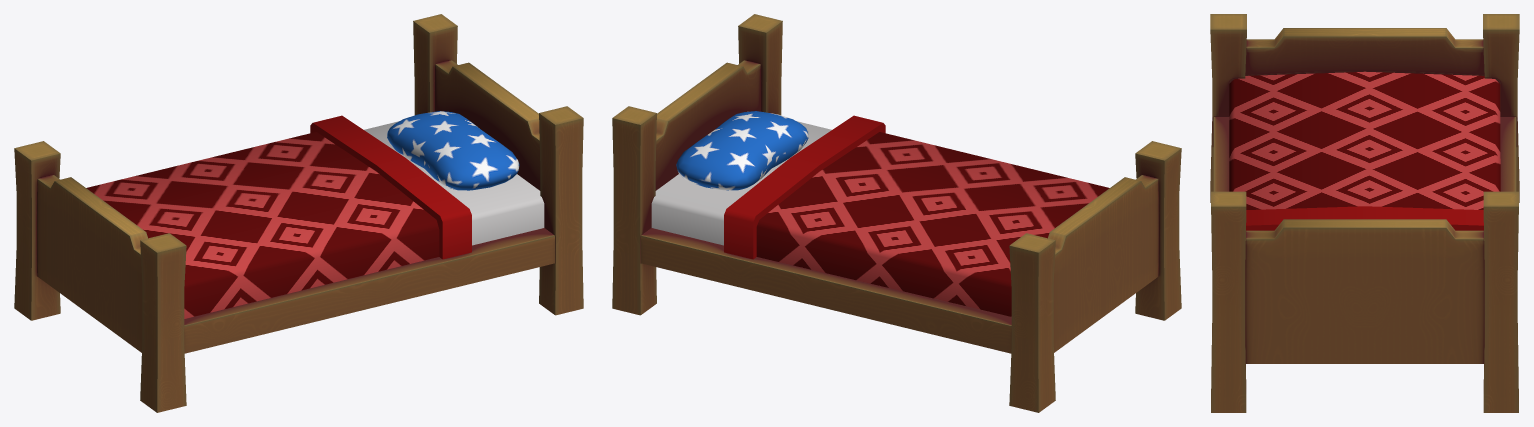
Rendered from child_bed_option_1.glb.
3 renders of one model, left to right at view 1: azimuth 30°, elevation 25°; view 2: azimuth 150°, elevation 25°; view 3: azimuth 270°, elevation 25°, orthographic. The views are drawn at different scales.
Visible parts, largest first — view 1: bed1_low, wood1_low, wood3_low, wood2_low, pillow_low, bed_low; view 2: bed1_low, wood1_low, wood3_low, wood2_low, pillow_low, bed_low; view 3: wood3_low, bed1_low, wood1_low, wood2_low.
Part boxes in pixels (<box>): bed1_low: <box>86,115,471,318</box>; wood1_low: <box>14,14,583,412</box>; wood3_low: <box>37,60,540,352</box>; wood2_low: <box>184,228,554,353</box>; pillow_low: <box>387,111,519,190</box>; bed_low: <box>364,121,544,245</box>; bed1_low: <box>724,115,1109,316</box>; wood1_low: <box>612,14,1181,412</box>; wood3_low: <box>655,60,1158,352</box>; wood2_low: <box>641,228,1011,353</box>; pillow_low: <box>676,111,808,190</box>; bed_low: <box>651,121,831,245</box>; wood3_low: <box>1245,28,1484,363</box>; bed1_low: <box>1229,71,1500,230</box>; wood1_low: <box>1210,14,1519,412</box>; wood2_low: <box>1213,117,1516,191</box>.
Bounding box in the file's own units: 612 × 261 × 355.
Materials: 1 (1 with a texture image).
